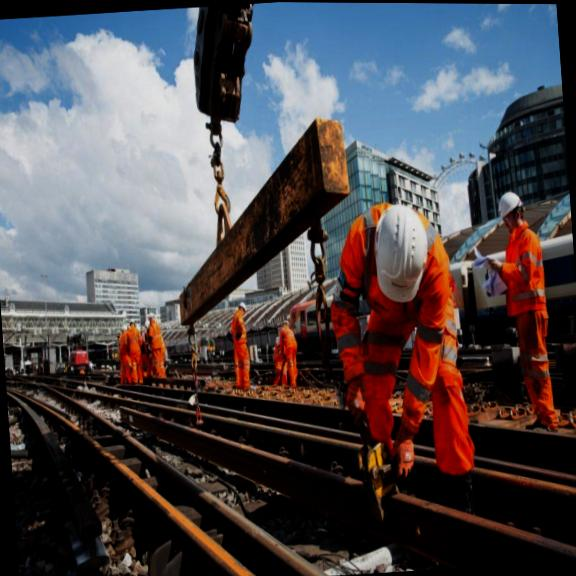safety_vest: (501, 230, 549, 309), (230, 314, 250, 345), (281, 326, 297, 354)
